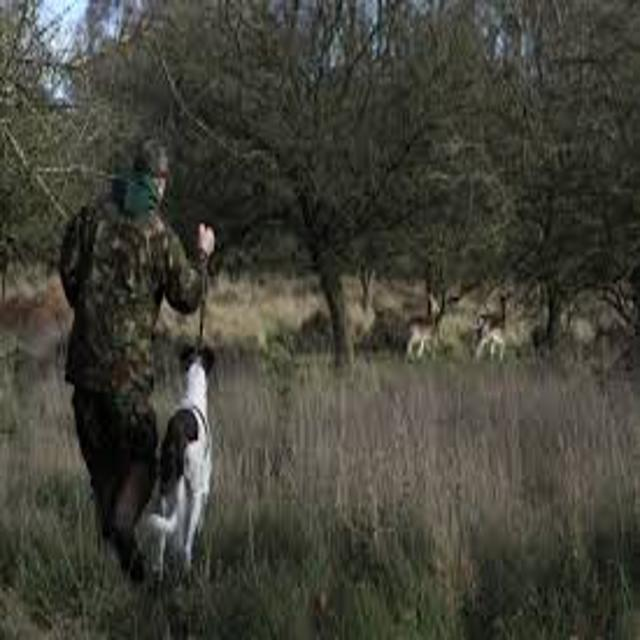Dog: (142, 313, 258, 613)
